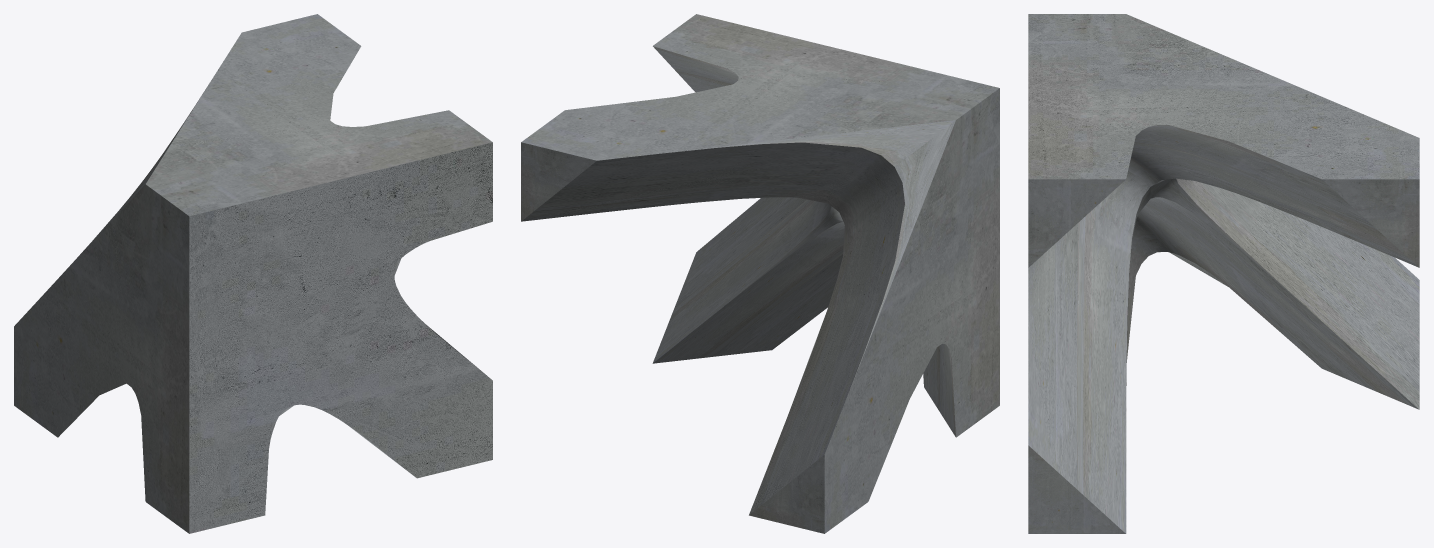
Rendered from module_S1.fbx.
3 renders of one model, left to right at view 1: azimuth 30°, elevation 25°; view 2: azimuth 150°, elevation 25°; view 3: azimuth 270°, elevation 25°, orthographic. The views are drawn at different scales.
Parts seen in each view (by area): view 1: modules; view 2: modules; view 3: modules.
Boxes of the visible parts, x1,y1,x2,y2 form: modules: [14, 14, 492, 533]; modules: [521, 14, 999, 533]; modules: [1028, 14, 1419, 533].
Size of the model in its own units: 1000 by 1000 by 1000.
Materials: 1 (1 with a texture image).
